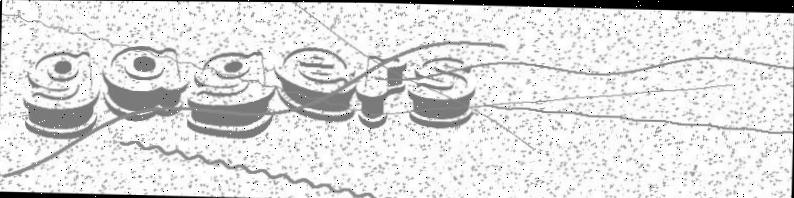a: (102, 45, 188, 121)
e: (274, 47, 358, 121)
g: (185, 49, 276, 139), (22, 50, 101, 139)
r: (355, 55, 405, 127)
s: (408, 56, 474, 128)
